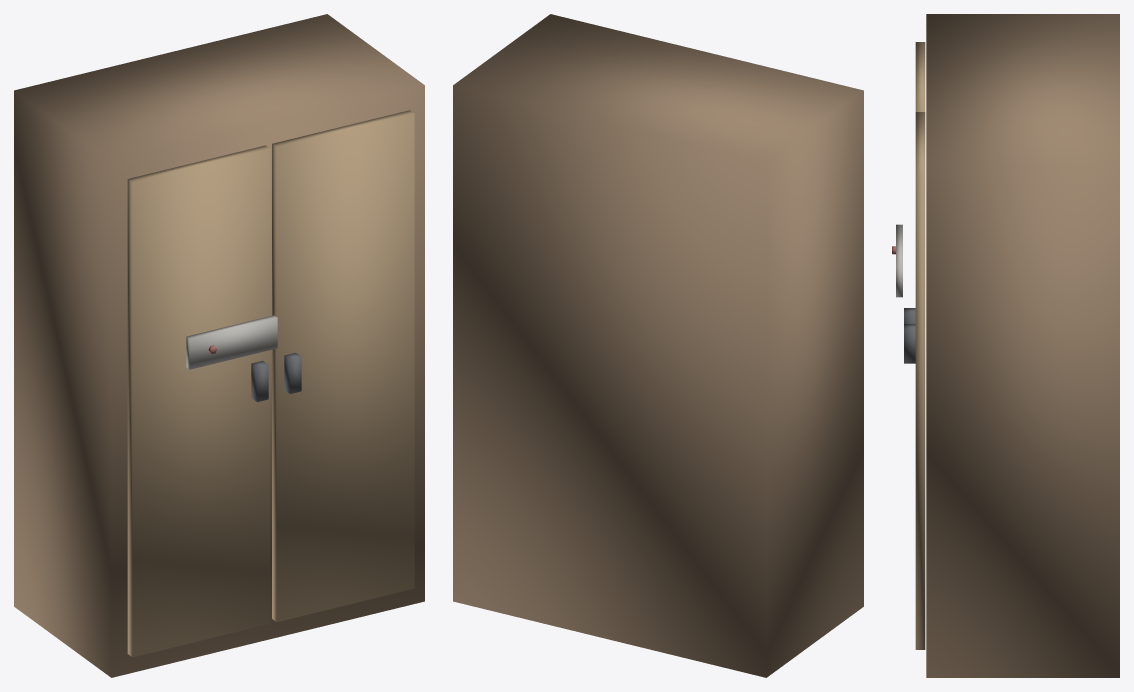
File: dental_instrument_cabinet__compact.glb
3 views of the same model, side by side, from view 1: azimuth 30°, elevation 25°; view 2: azimuth 150°, elevation 25°; view 3: azimuth 270°, elevation 25° (orthographic).
Parts seen in each view (by area): view 1: world; view 2: world; view 3: world.
Boxes of the visible parts, bbox=[...] form: world: bbox=[14, 14, 424, 677]; world: bbox=[453, 14, 863, 677]; world: bbox=[892, 14, 1119, 677].
Bounding box in the file's own units: 0.798 × 1.26 × 0.5061.
